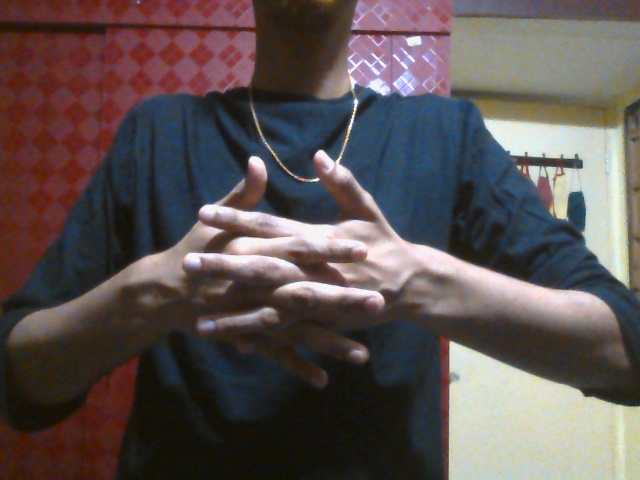W: (159, 147, 425, 398)
